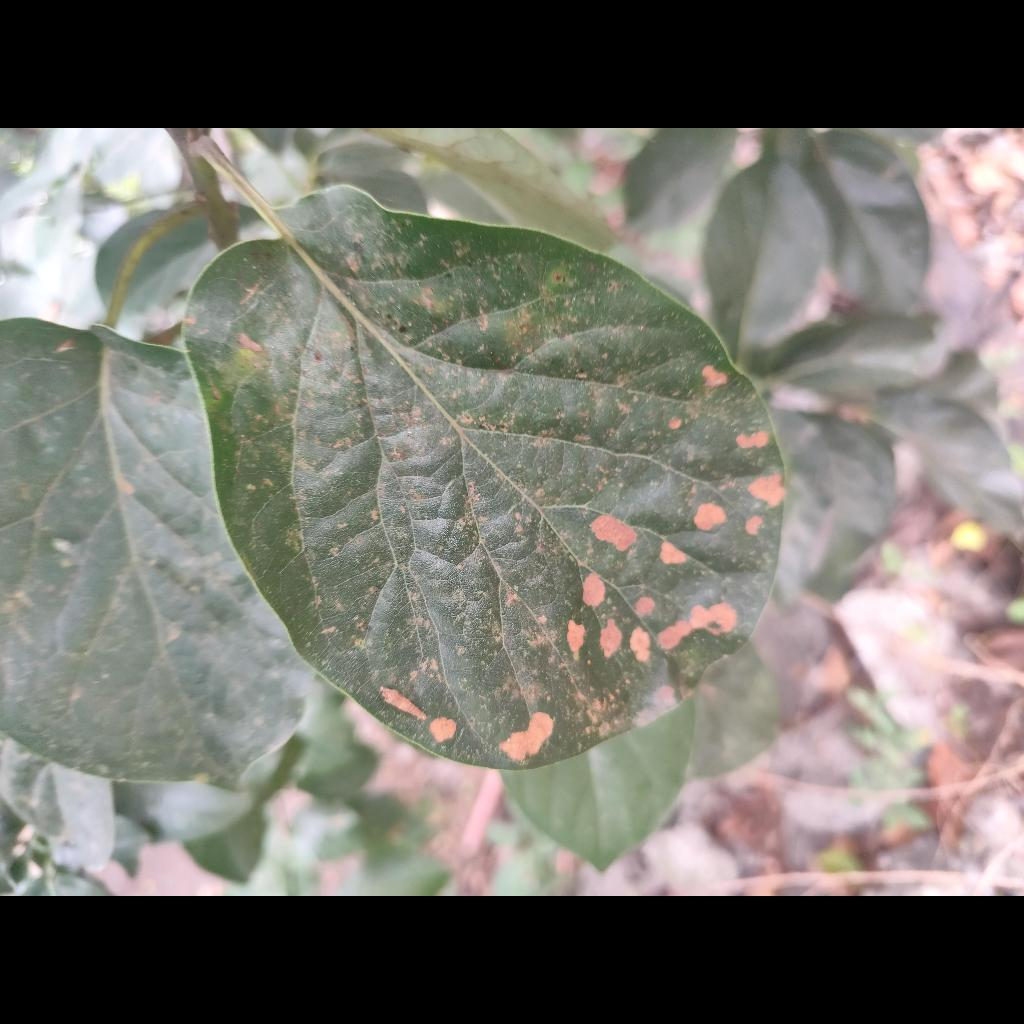antracnosis_hoja: (183, 187, 785, 770)
